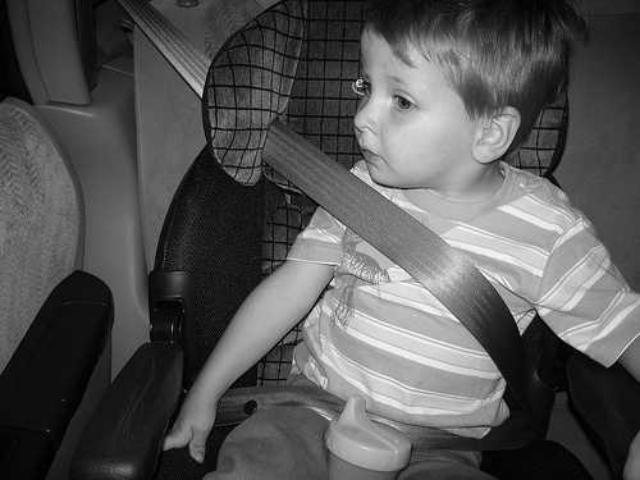SafeDriving: (384, 77, 426, 118)
Seatbelt: (108, 0, 518, 454)
